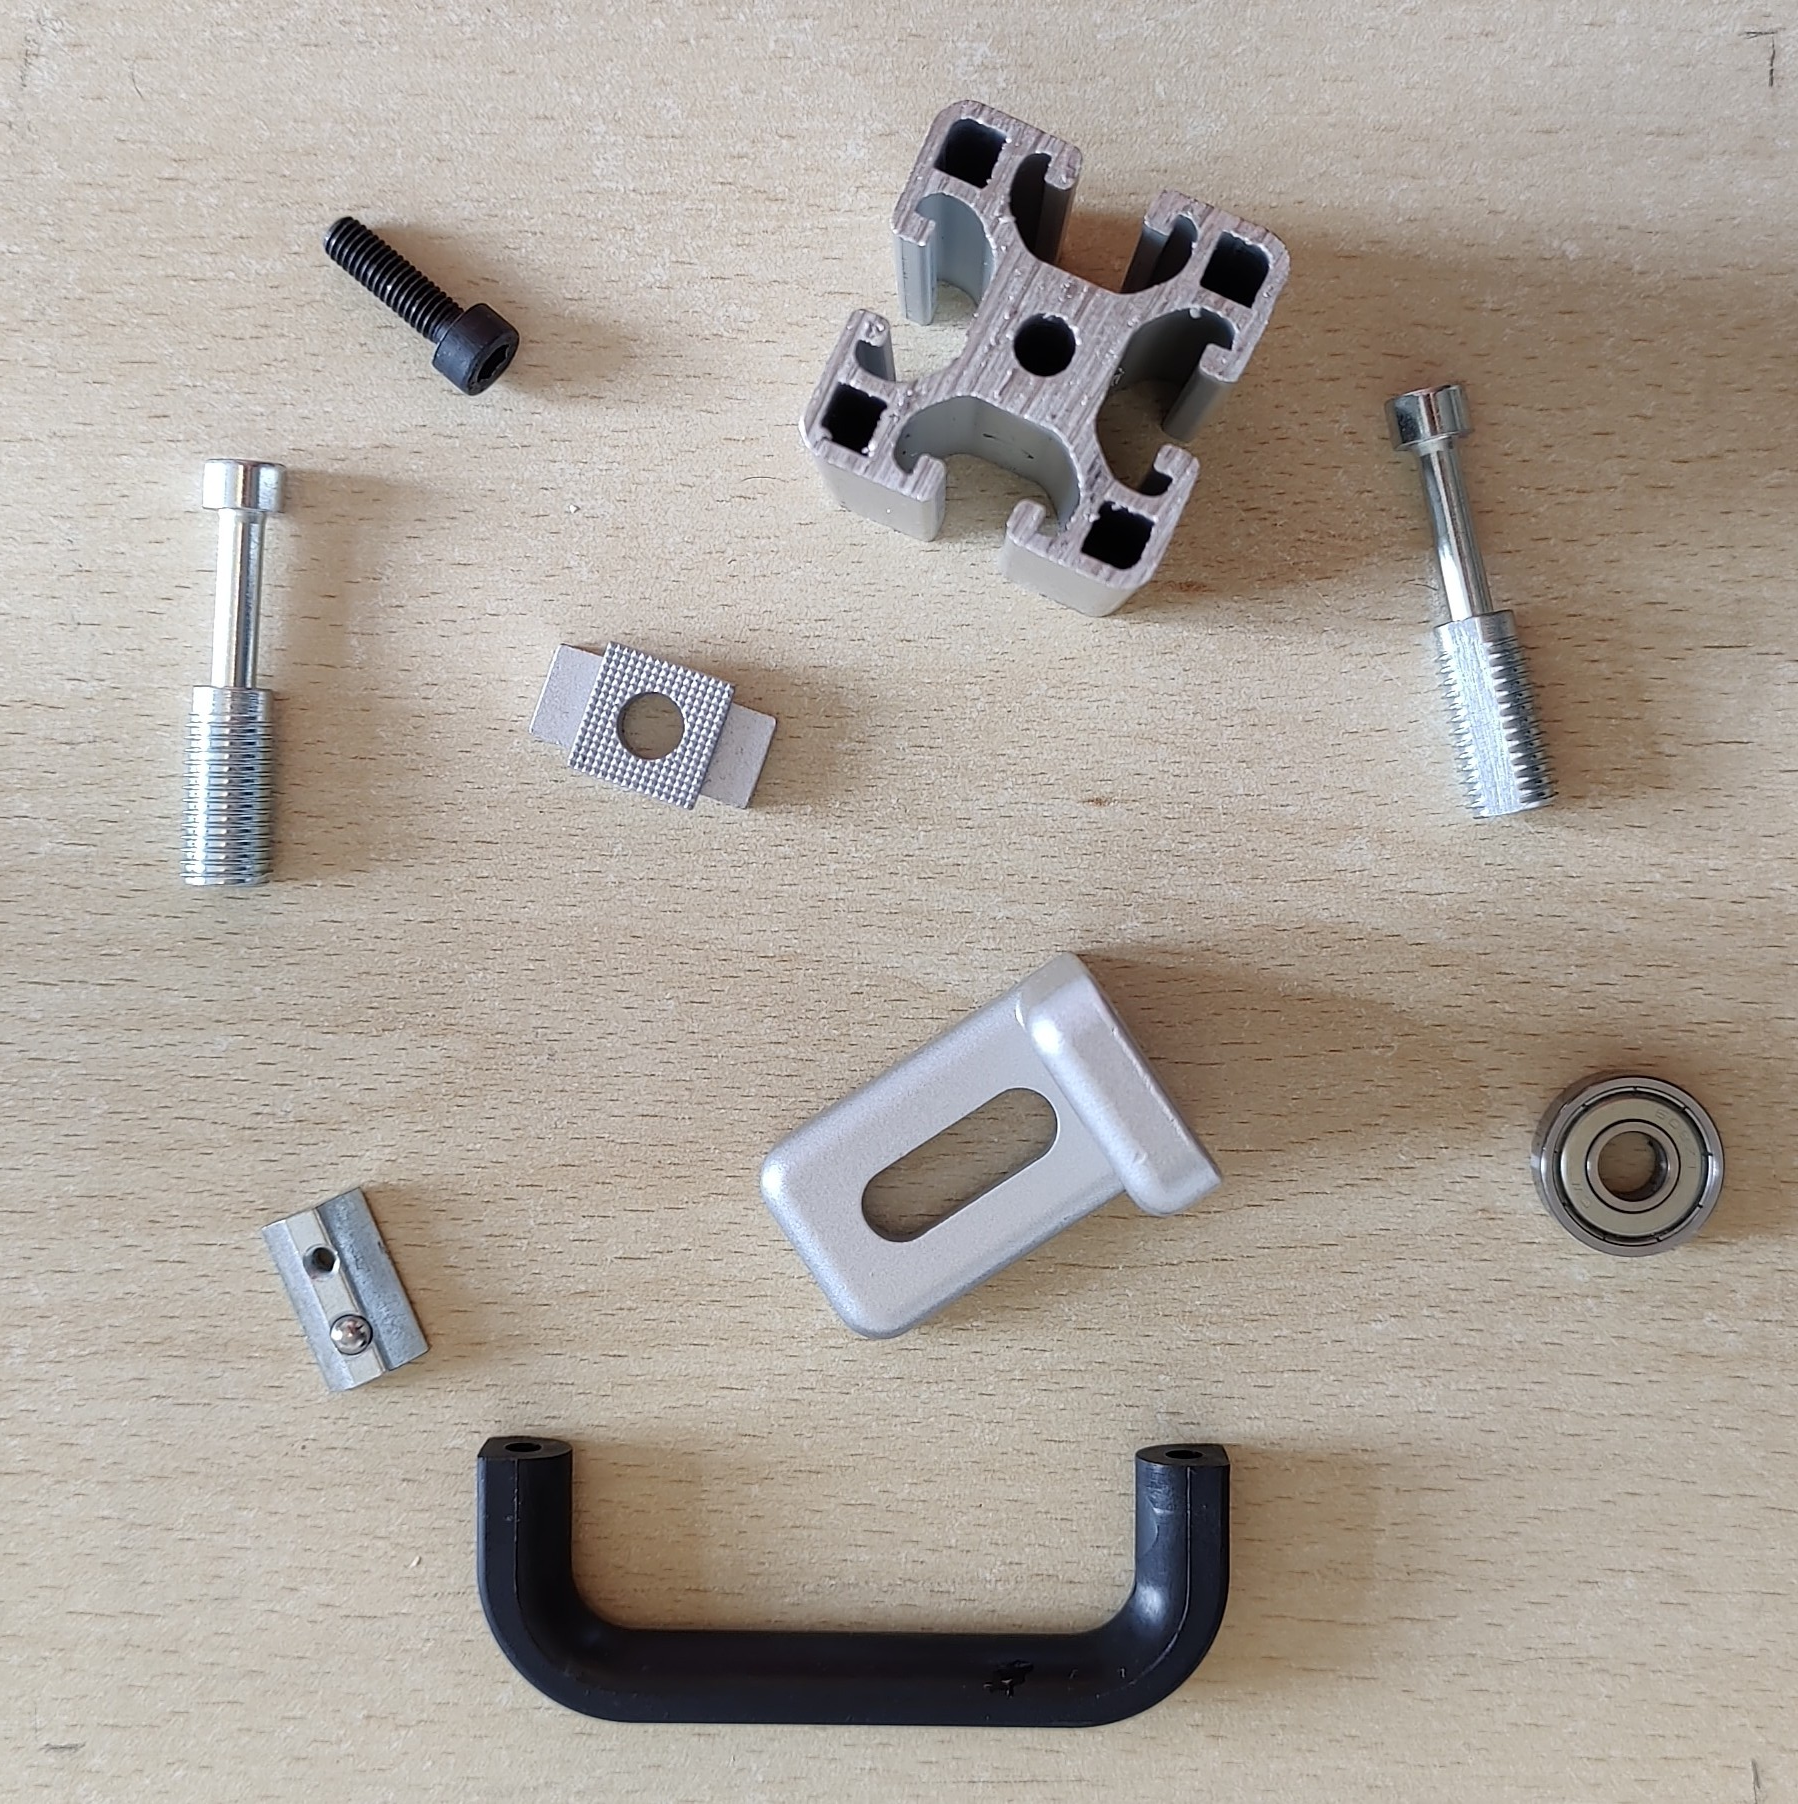Aluminium Extension: (799, 97, 1293, 622)
Ball Bearing: (1530, 1070, 1727, 1259)
Multiwinkel: (756, 950, 1228, 1341)
Pull Handle: (473, 1434, 1235, 1730)
Shoulder Socket Head Cap Screw: (1381, 379, 1561, 823), (176, 456, 291, 894)
Socket Head Cap Screw: (319, 216, 520, 397)
T Nut Square: (525, 640, 780, 815)
T Spring Nut: (259, 1185, 430, 1394)
